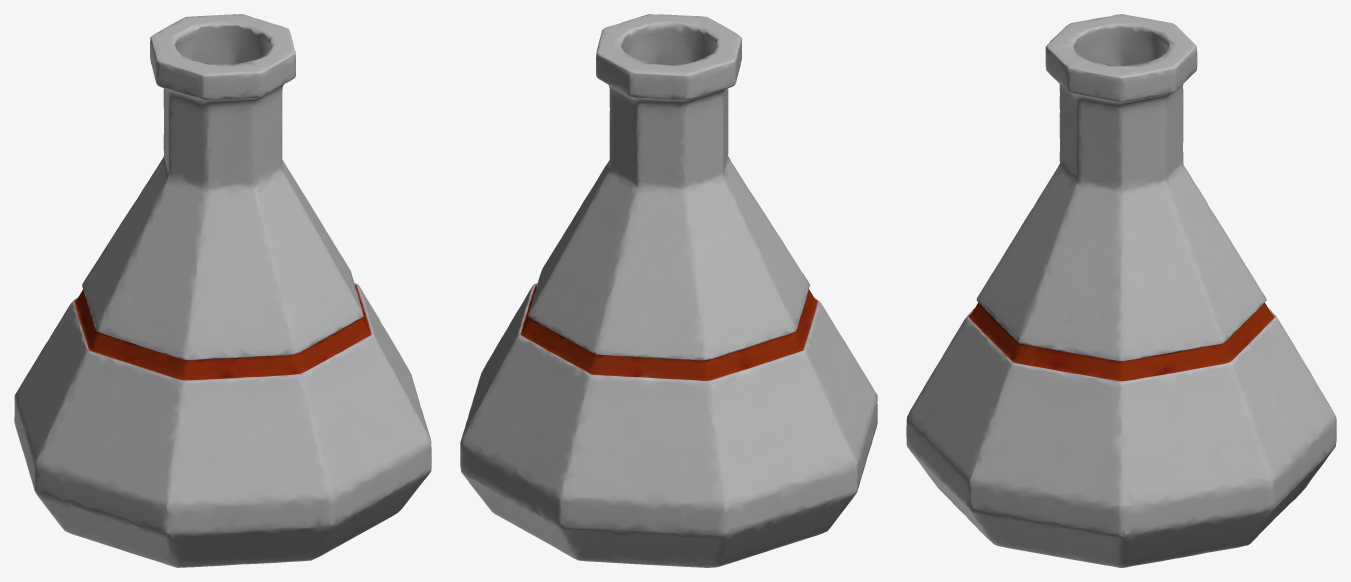
The model's file is tripo-output.glb.
3 renders of one model, left to right at view 1: azimuth 30°, elevation 25°; view 2: azimuth 150°, elevation 25°; view 3: azimuth 270°, elevation 25°, orthographic.
Visible parts, largest first — view 1: tripo_node_2629c0b5-a90c-49fc-9496-539cecbd7cb9; view 2: tripo_node_2629c0b5-a90c-49fc-9496-539cecbd7cb9; view 3: tripo_node_2629c0b5-a90c-49fc-9496-539cecbd7cb9.
Boxes of the visible parts, <box> form: tripo_node_2629c0b5-a90c-49fc-9496-539cecbd7cb9: <box>14,14,431,567</box>; tripo_node_2629c0b5-a90c-49fc-9496-539cecbd7cb9: <box>460,14,877,567</box>; tripo_node_2629c0b5-a90c-49fc-9496-539cecbd7cb9: <box>906,14,1336,567</box>.
Size of the model in its own units: 0.8682 by 1 by 0.8678.
Materials: 1 (1 with a texture image).
